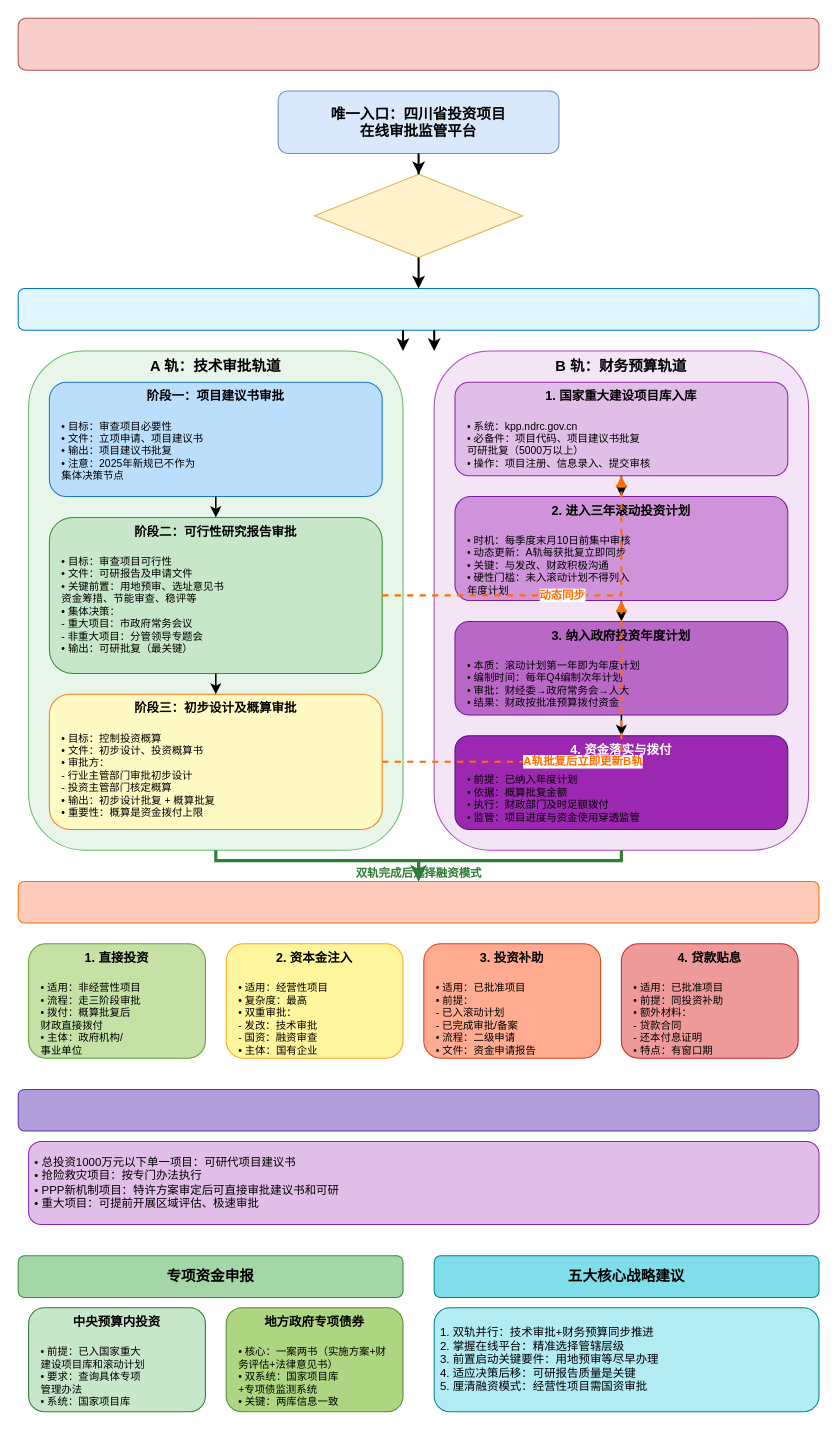
This 837x1430 diagram has some shape labels left out. The centre of each missing label's shape, as x and y in pixels:
"双轨并行系统" goes at point 418,309.
"四种融资模式选择" goes at point 418,901.
"政府投资项目申报与管理完整流程" goes at point 418,43.
"特殊情况：简化审批程序" goes at point 418,1109.
"选择管辖层级" goes at point 418,215.
